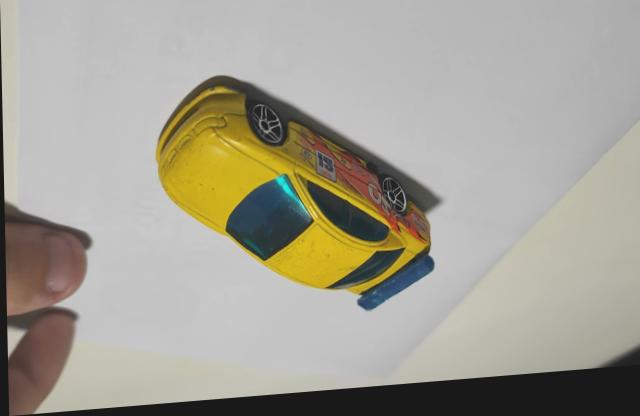02_OZSOME: (155, 89, 433, 317)
